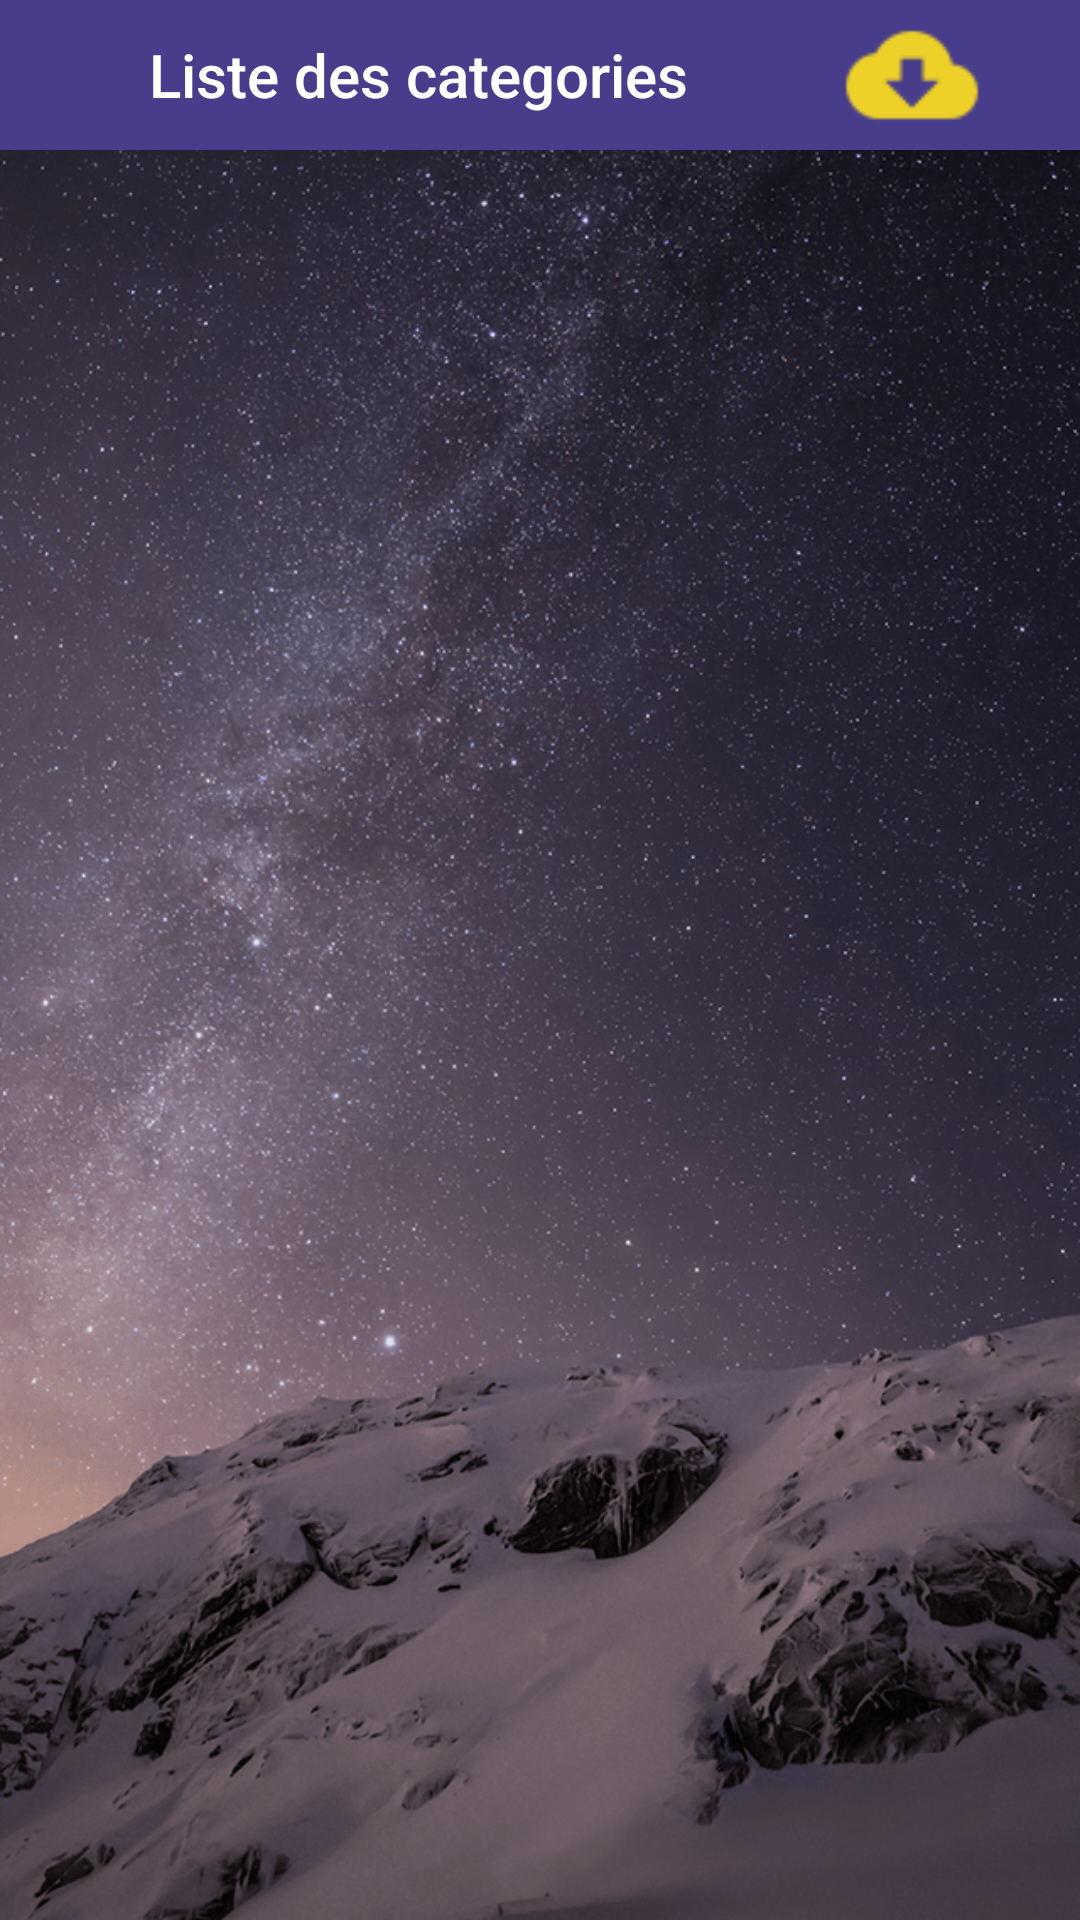

Named icons in this screenshot (1080 x 1920) and their centers, (x,y):
importicon: (912,75)
